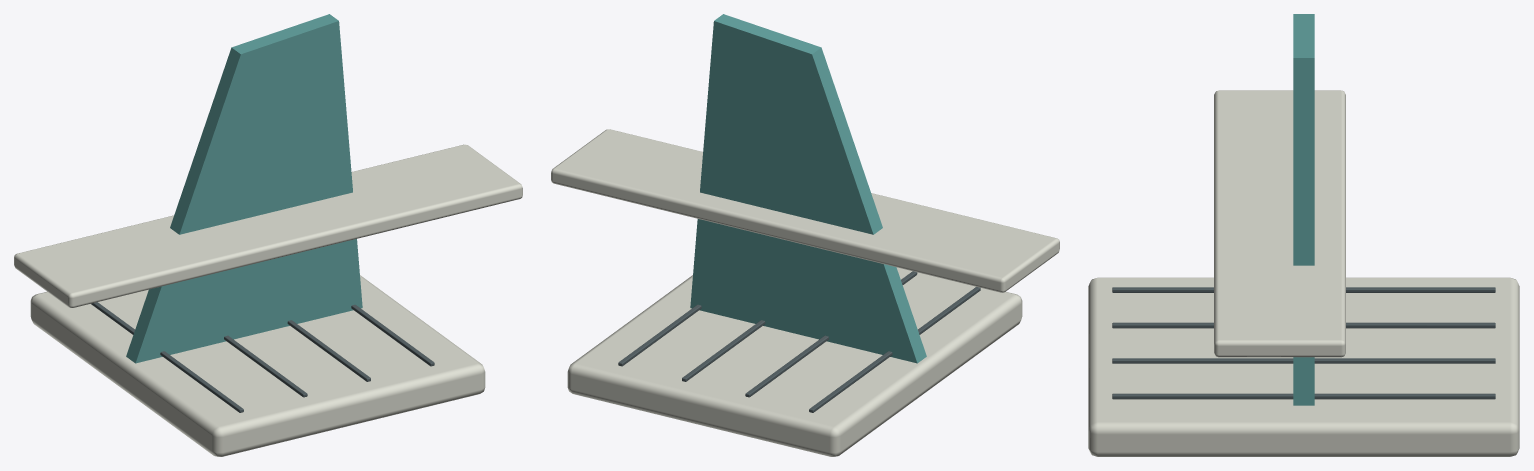
Rendered from castaway-island-escape-broken-tail-section-9433cebb__28050.glb.
3 renders of one model, left to right at view 1: azimuth 30°, elevation 25°; view 2: azimuth 150°, elevation 25°; view 3: azimuth 270°, elevation 25°, orthographic. The views are drawn at different scales.
Visible parts, largest first — view 1: broken-tail-section-ivory, broken-tail-section-teal, broken-tail-section-iron; view 2: broken-tail-section-ivory, broken-tail-section-teal, broken-tail-section-iron; view 3: broken-tail-section-ivory, broken-tail-section-iron, broken-tail-section-teal.
Part boxes in pixels (x1,y1,x2,y2): broken-tail-section-ivory: (14,144,522,456); broken-tail-section-teal: (126,14,362,363); broken-tail-section-iron: (91,302,434,412); broken-tail-section-ivory: (551,129,1059,456); broken-tail-section-teal: (690,14,926,363); broken-tail-section-iron: (618,271,980,412); broken-tail-section-ivory: (1088,90,1519,456); broken-tail-section-iron: (1112,287,1495,399); broken-tail-section-teal: (1293,14,1314,405).
Bounding box in the file's own units: 2.5 × 1.7 × 1.8.
